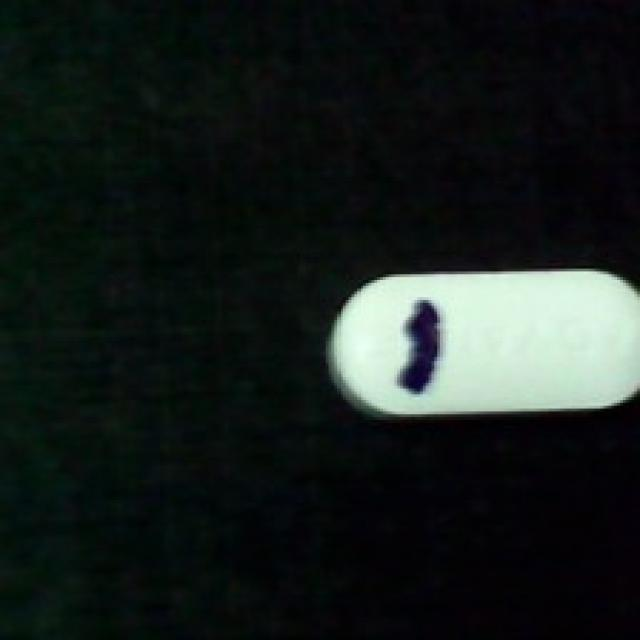defected: (314, 263, 640, 426)
